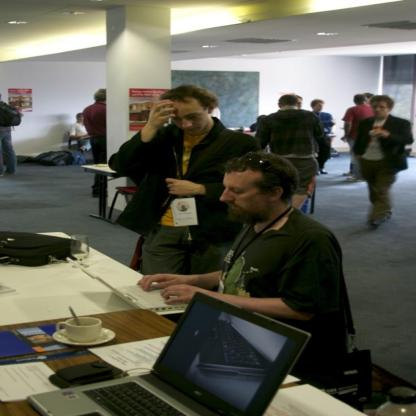board: (31, 293, 316, 416)
